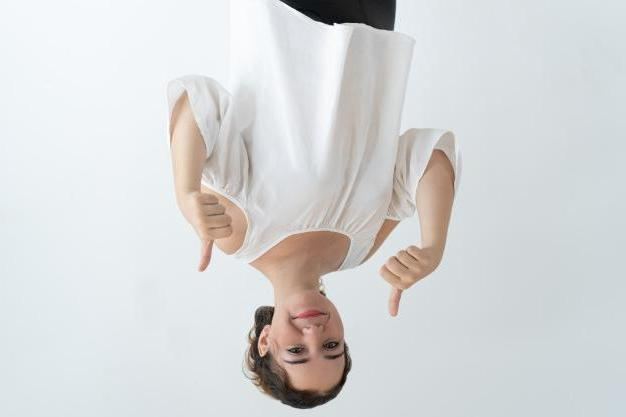thumbsdown: (379, 245, 432, 317), (195, 193, 233, 272)
